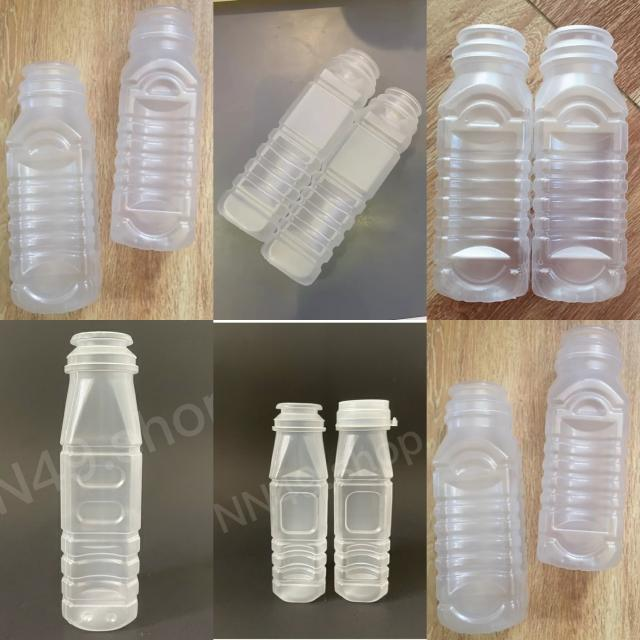Single-Use-Plastic: (261, 88, 421, 285), (219, 49, 379, 242), (434, 25, 532, 302), (531, 25, 628, 303), (60, 332, 142, 630), (432, 380, 528, 633), (6, 61, 101, 313), (110, 5, 202, 250), (538, 325, 630, 570), (334, 399, 398, 602), (269, 403, 328, 602)
